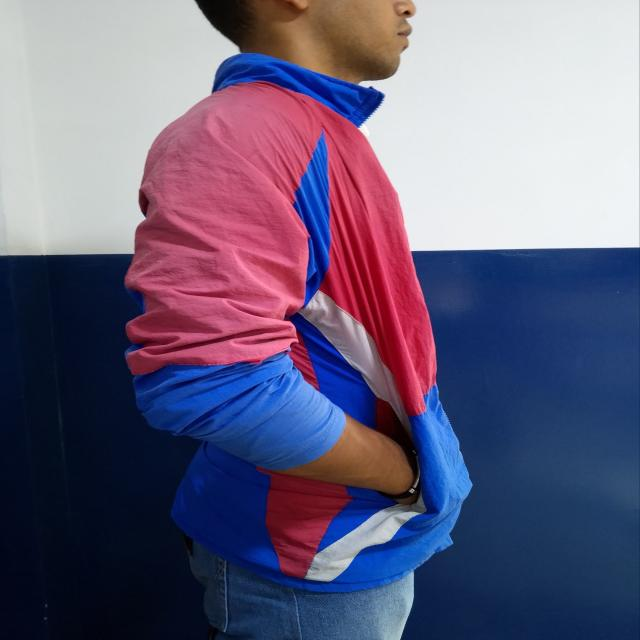chaqueta_unefa: (121, 51, 475, 594)
